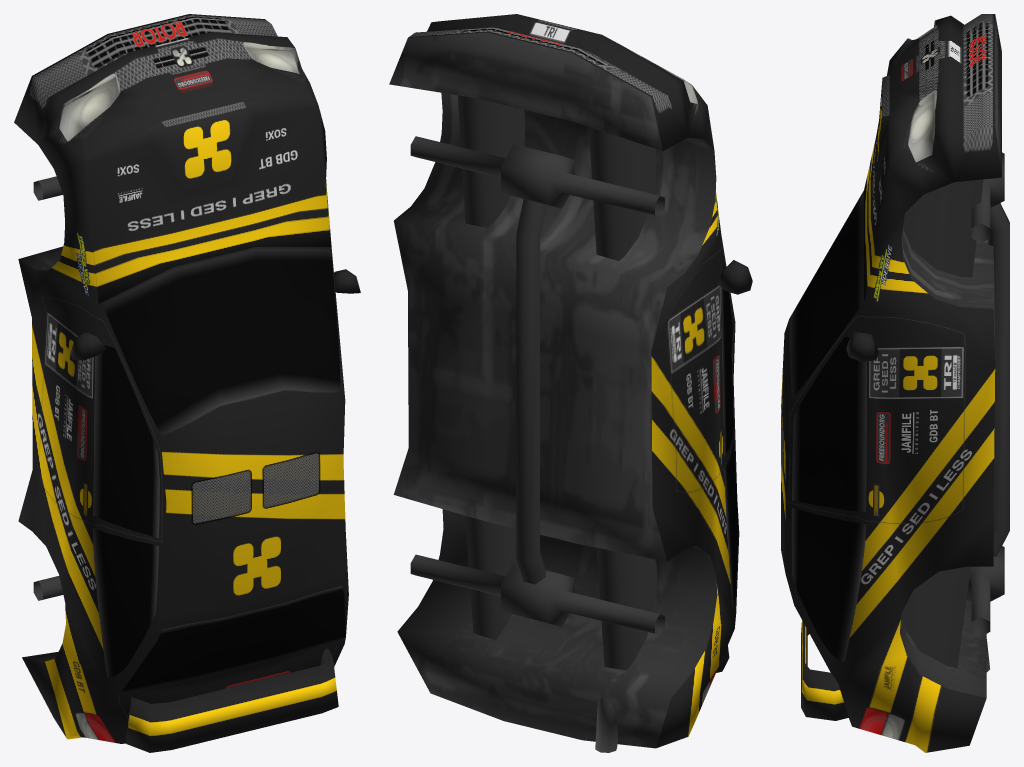
The model's file is cordon.obj.
The picture shows the model from 3 angles, left to right: view 1: azimuth 30°, elevation 25°; view 2: azimuth 150°, elevation 25°; view 3: azimuth 270°, elevation 25°; orthographic projection. The views are drawn at different scales.
Parts seen in each view (by area): view 1: seat_seat.007; view 2: seat_seat.007; view 3: seat_seat.007.
Part boxes in pixels (x1=…): seat_seat.007: x1=14, y1=14, x2=360, y2=752; seat_seat.007: x1=389, y1=14, x2=752, y2=752; seat_seat.007: x1=781, y1=14, x2=1009, y2=752.
Size of the model in its own units: 1.86 by 4.16 by 1.31.
Materials: 1 (1 with a texture image).
